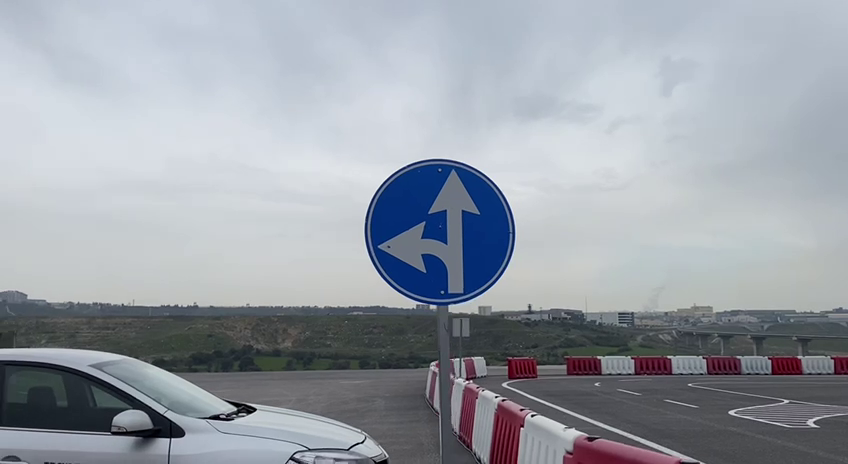forwardAndLeft: (359, 156, 517, 308)
